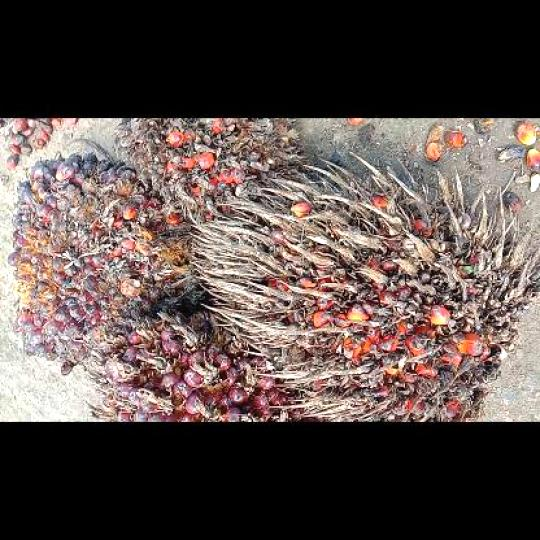masak: (7, 153, 201, 374), (87, 312, 323, 421)
terlalu masak: (192, 153, 538, 421), (116, 118, 305, 214)
